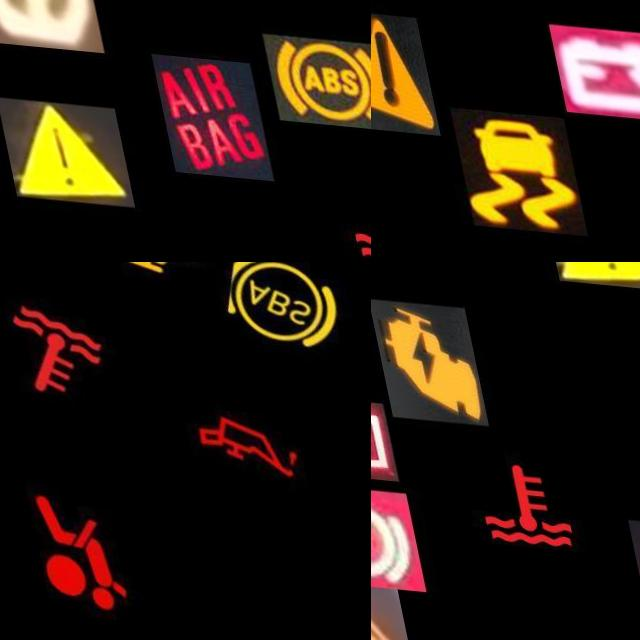Central Warning lamp: (0, 96, 121, 204), (371, 9, 432, 134)
Engine cooling system: (440, 435, 578, 562), (312, 149, 371, 262)
